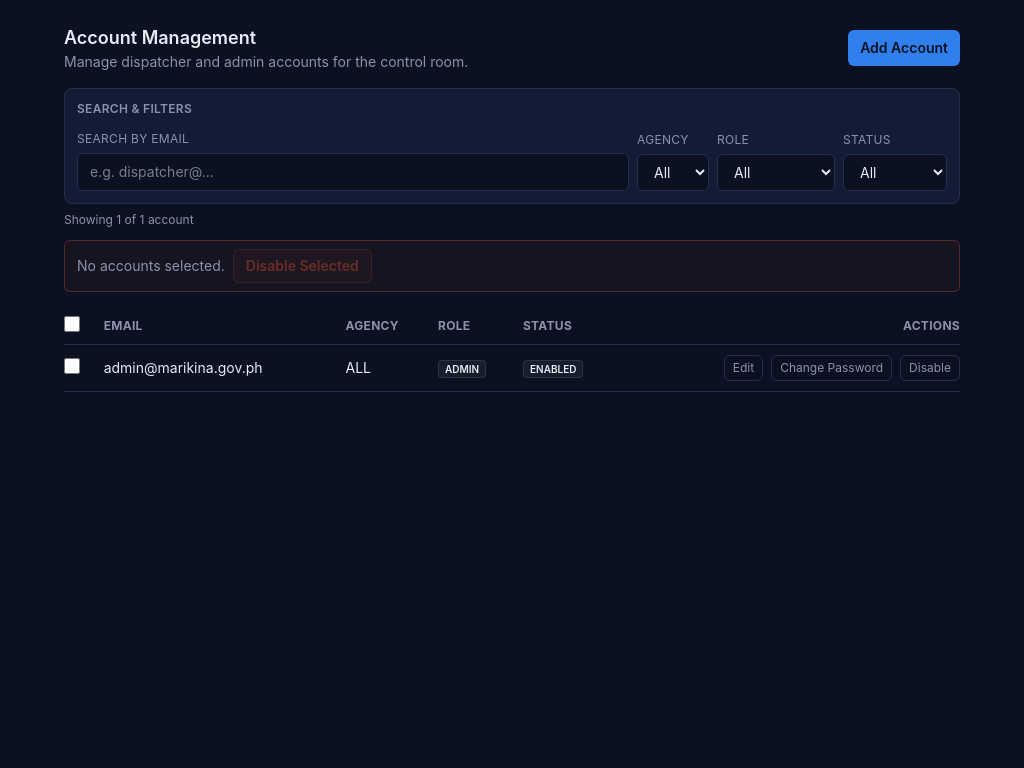
UserManagement › keeps the Disable dialog open and shows the error when reauthentication fails
The width and height of the screenshot is (1024, 768).
Click the button "Disable". click: (930, 368)
box: [900, 355, 960, 381]
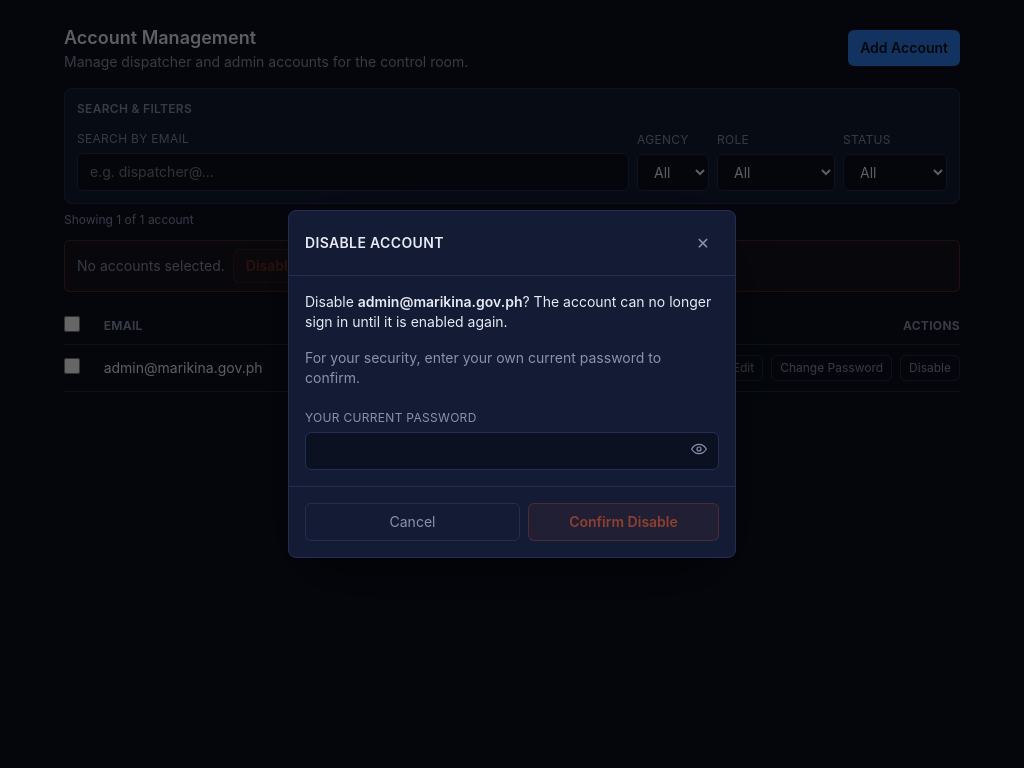
Type "WrongPass!123" into the password field labelled "Your Current Password". click: (512, 451)
box: [305, 432, 719, 470]
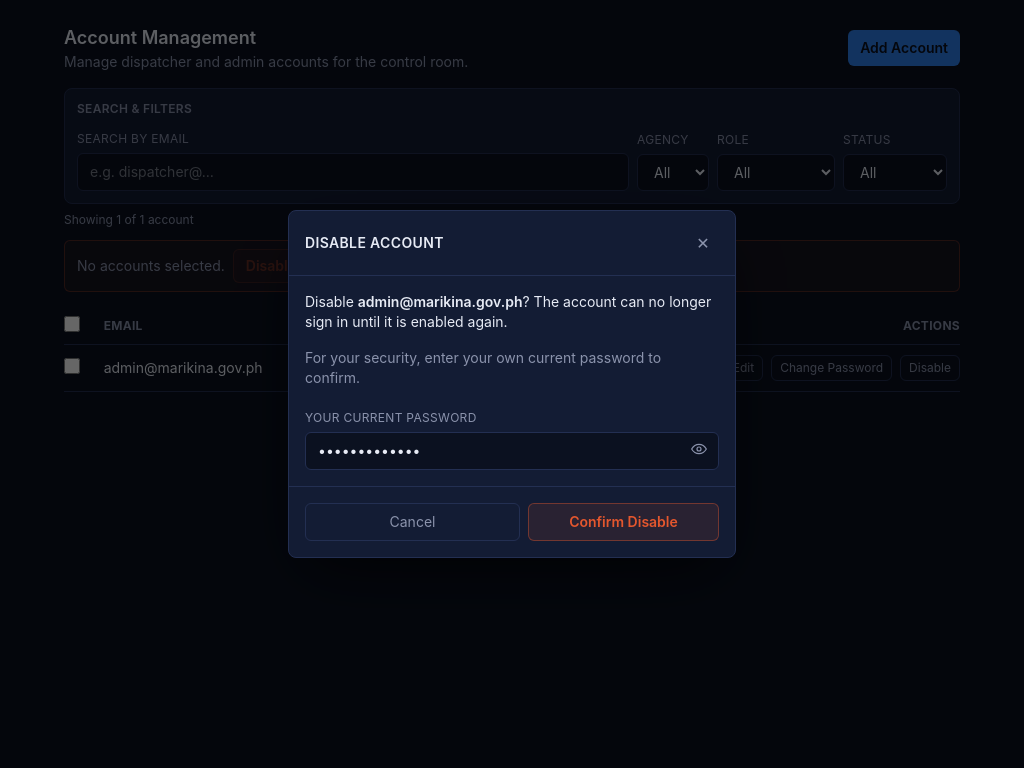
Click the button "Confirm Disable". click: (624, 522)
box: [528, 503, 719, 541]
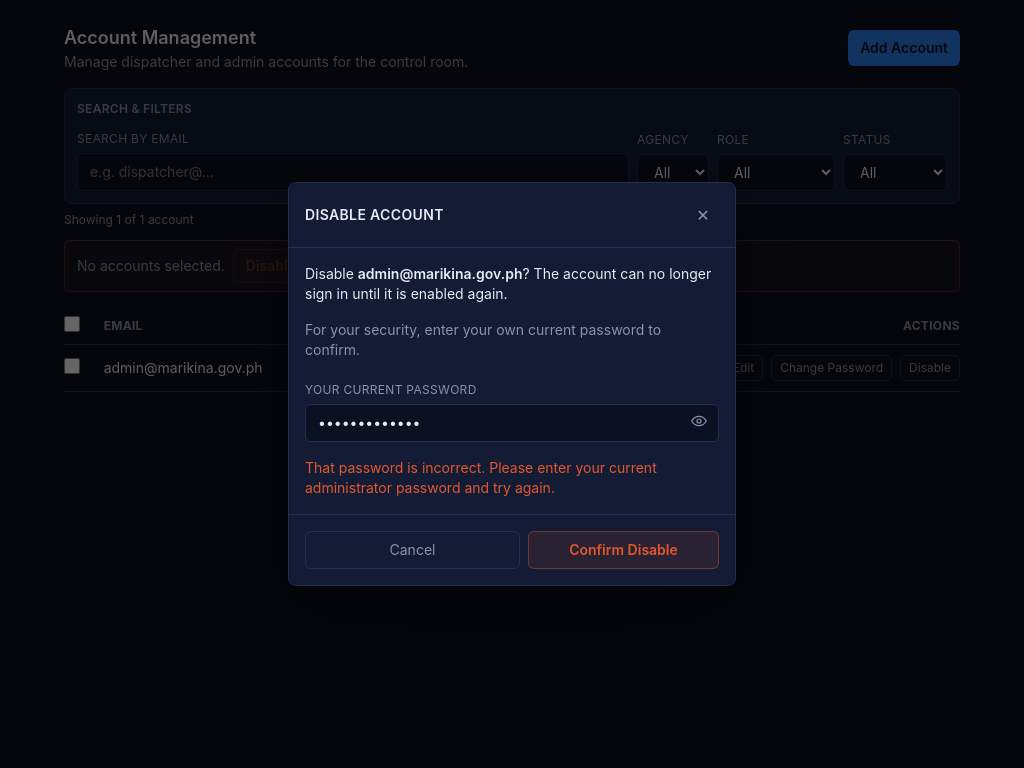
Check: the dialog is shown
Check: the text "That password is incorrect. Please enter your current administrator password and try again." is shown, box [305, 459, 657, 496]
